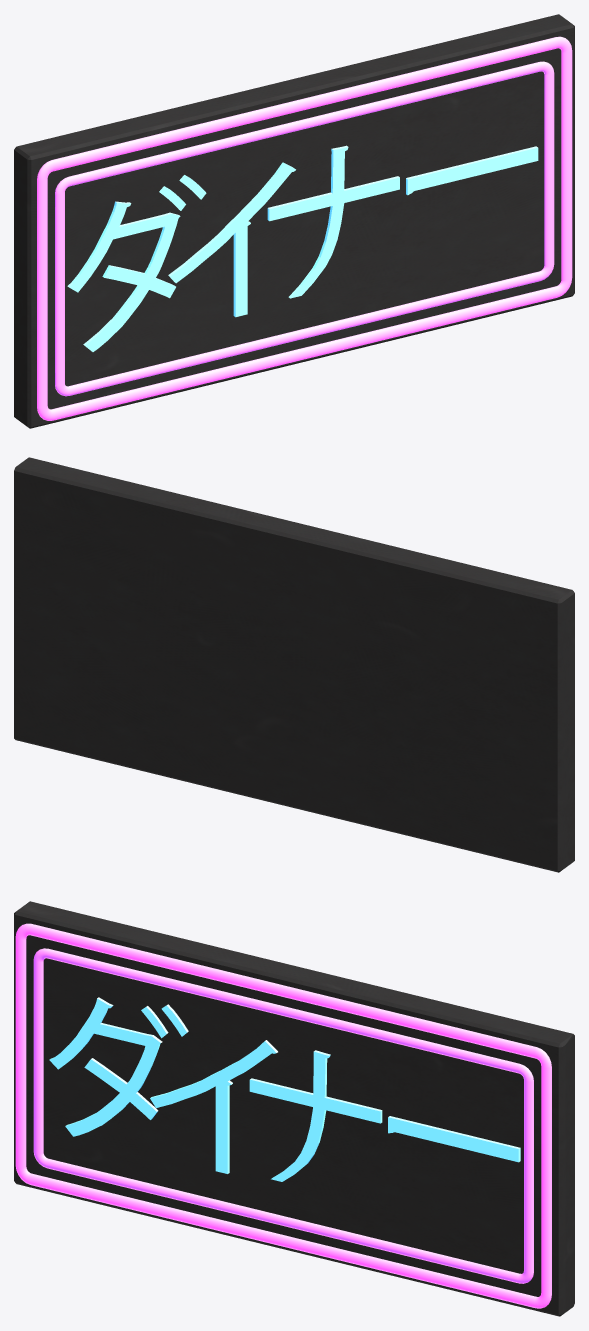
The model's file is cyberpunk_diner_sign_japanese.glb.
3 renders of one model, top to bottom at view 1: azimuth 30°, elevation 25°; view 2: azimuth 150°, elevation 25°; view 3: azimuth 330°, elevation 25°, orthographic.
Parts seen in each view (by area): view 1: Object_4, Object_2, Object_6, Object_3; view 2: Object_4; view 3: Object_4, Object_2, Object_3, Object_6.
Boxes of the visible parts, x1,y1,x2,y2 form: Object_4: (14,14,574,428); Object_2: (37,36,572,420); Object_6: (67,145,538,351); Object_3: (55,61,554,396); Object_4: (14,457,574,872); Object_4: (14,901,574,1316); Object_2: (15,923,551,1308); Object_3: (33,948,533,1283); Object_6: (49,997,520,1181).
Size of the model in its own units: 18.05 by 8.58 by 1.18.
Materials: 4 (4 with a texture image).
